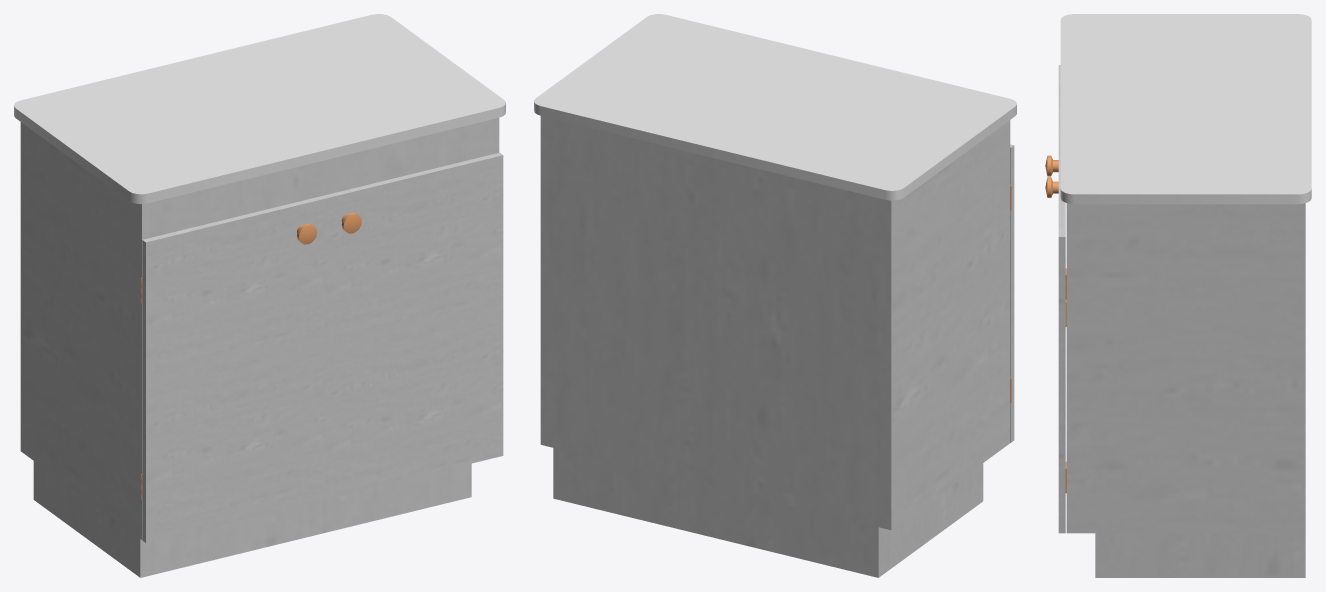
The model's file is vanity_modern_07.glb.
3 views of the same model, side by side, from view 1: azimuth 30°, elevation 25°; view 2: azimuth 150°, elevation 25°; view 3: azimuth 270°, elevation 25° (orthographic).
Parts seen in each view (by area): view 1: BathroomVanity07, BathroomVanity07DoorL, BathroomVanity07DoorR; view 2: BathroomVanity07, BathroomVanity07DoorL; view 3: BathroomVanity07, BathroomVanity07DoorR, BathroomVanity07DoorL.
Part boxes in pixels (x1=…): BathroomVanity07: x1=14, y1=14, x2=505, y2=577; BathroomVanity07DoorL: x1=141, y1=196, x2=324, y2=542; BathroomVanity07DoorR: x1=321, y1=152, x2=503, y2=499; BathroomVanity07: x1=534, y1=14, x2=1016, y2=577; BathroomVanity07DoorL: x1=1010, y1=144, x2=1014, y2=442; BathroomVanity07: x1=1060, y1=14, x2=1311, y2=577; BathroomVanity07DoorR: x1=1045, y1=151, x2=1066, y2=533; BathroomVanity07DoorL: x1=1045, y1=65, x2=1066, y2=326.
Bounding box in the file's own units: 1.18 × 1.2 × 0.7342.
1 material, 1 textured.
